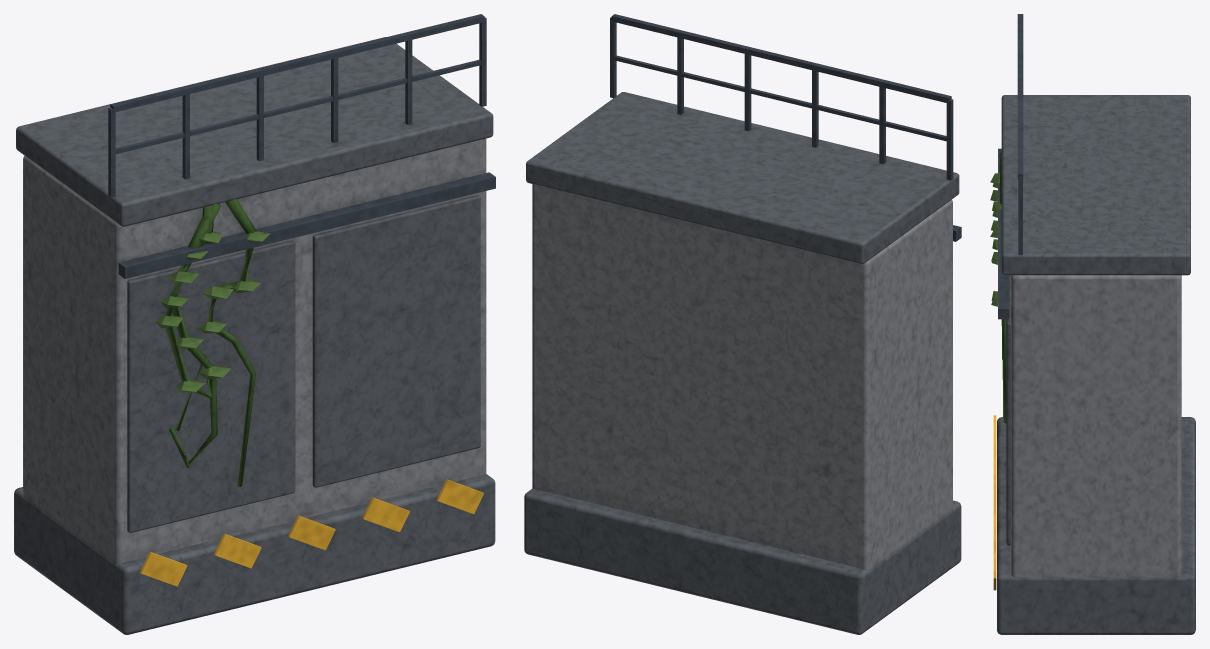
The model's file is wall_segment.glb.
3 renders of one model, left to right at view 1: azimuth 30°, elevation 25°; view 2: azimuth 150°, elevation 25°; view 3: azimuth 270°, elevation 25°, orthographic. The views are drawn at different scales.
Visible parts, largest first — view 1: Prop_wall_segment; view 2: Prop_wall_segment; view 3: Prop_wall_segment.
Boxes of the visible parts, left/top/right/bottom form: Prop_wall_segment: left=14, top=14, right=495, bottom=634; Prop_wall_segment: left=524, top=14, right=961, bottom=634; Prop_wall_segment: left=990, top=14, right=1195, bottom=634.
Bounding box in the file's own units: 4.05 × 5.38 × 2.17.
6 materials, 6 textured.
